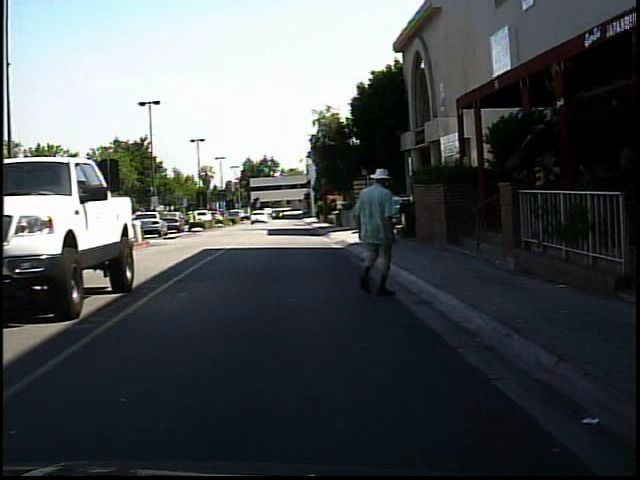person: (347, 161, 406, 301), (43, 198, 71, 266), (188, 204, 203, 228)
